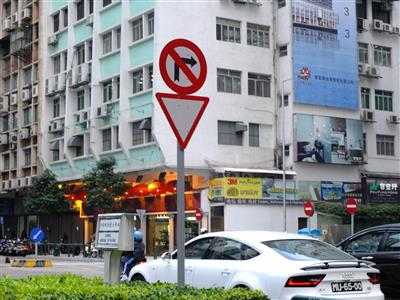keepLeft: (29, 225, 44, 242)
noRightTurn: (158, 37, 208, 95)
stop: (344, 197, 358, 215), (302, 199, 315, 217), (193, 206, 204, 222)
yield: (153, 90, 210, 151)
